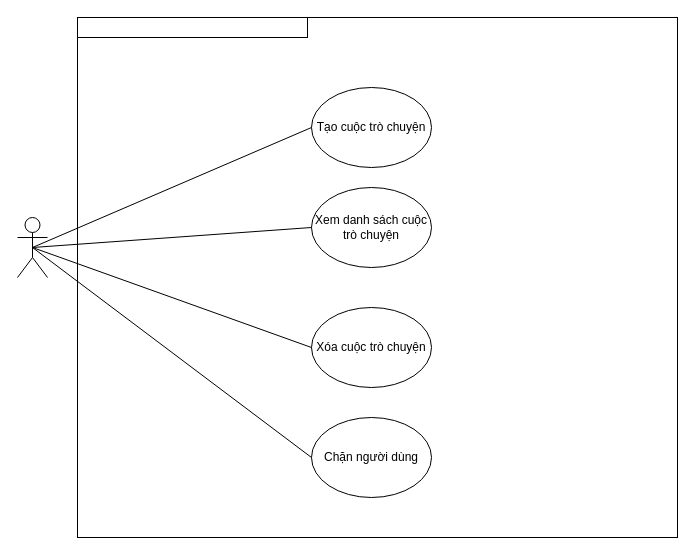
This 695x555 diagram has some shape labels left out. Each missing label, with the centre of its shape:
"Actor" belongs at point 32,247.
"Usecase quản lý cuộc trò chuyện" belongs at point 192,27.
